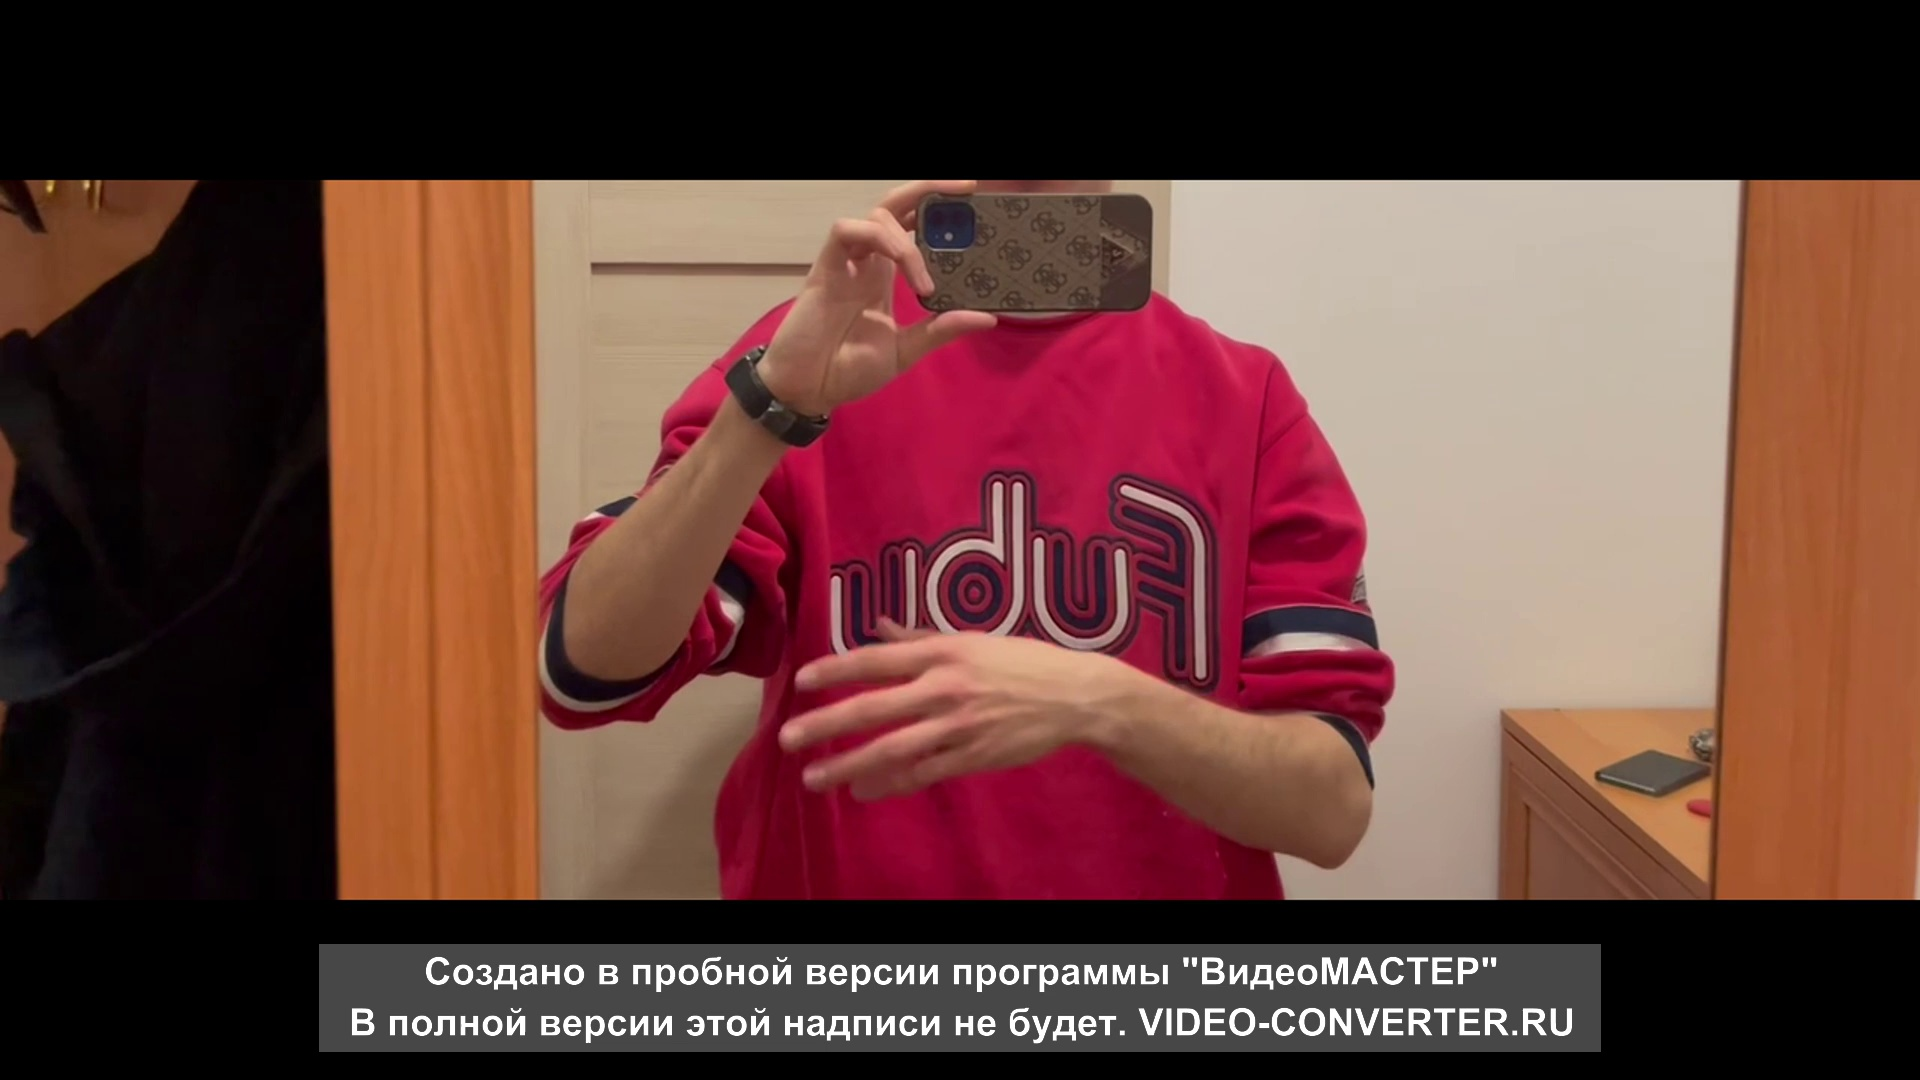Кисть: (779, 620, 1080, 802)
